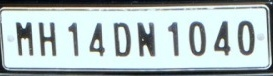character: (36, 19, 56, 57), (136, 21, 156, 57), (15, 20, 34, 56), (112, 21, 131, 57), (188, 20, 206, 56), (237, 20, 255, 56), (213, 20, 230, 56), (88, 22, 105, 55), (66, 20, 79, 56), (167, 20, 179, 57)
